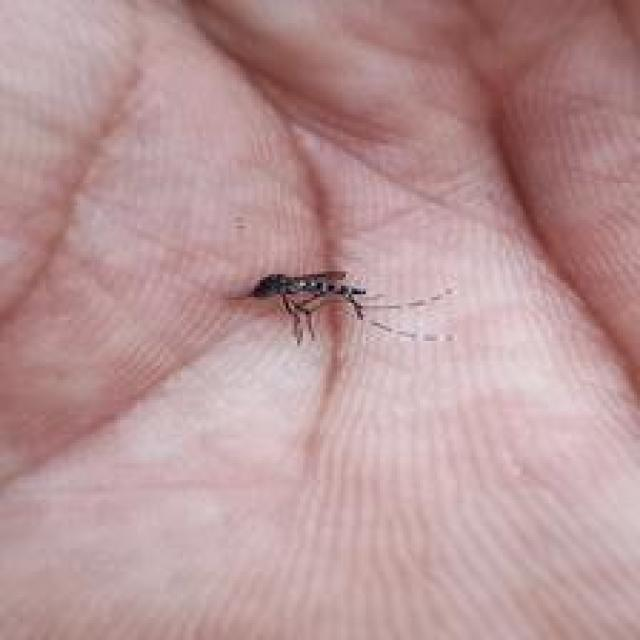Aedes albopictus: (246, 267, 457, 347)
